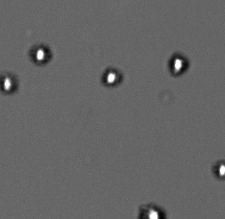Living Cell: (167, 51, 189, 77), (29, 44, 52, 65), (100, 66, 123, 87), (1, 72, 18, 96), (140, 203, 164, 218), (212, 159, 225, 179)
